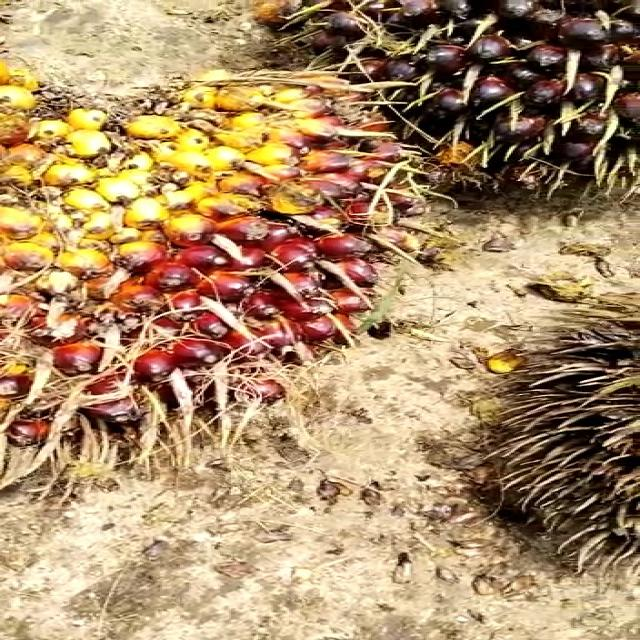palm oil: (0, 46, 422, 505)
